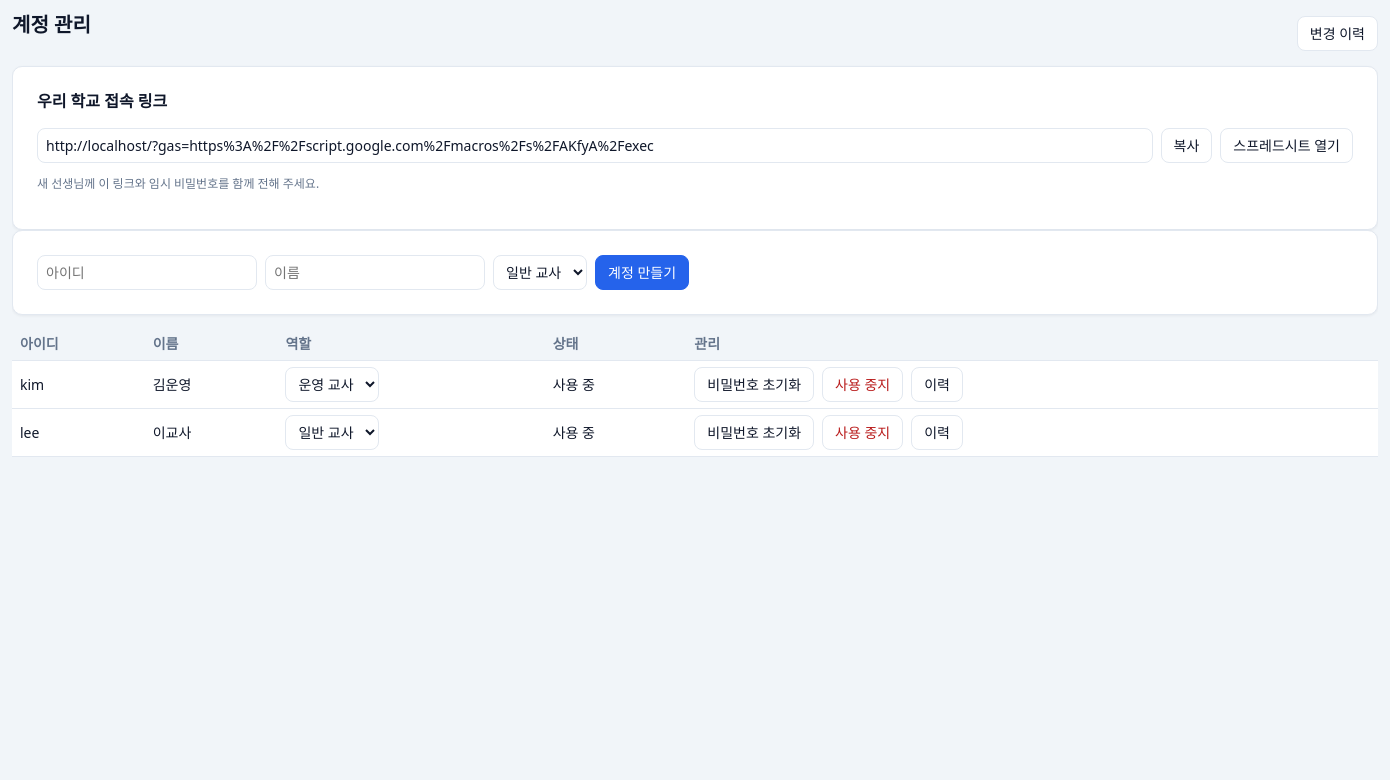
Test: UsersPage › resetting a password shows the new temporary password
Expected: the cell "lee" is shown, [12,408,145,456]
Click the button "비밀번호 초기화" in the row of "lee".
click(754, 432)  # box [694,415,814,450]
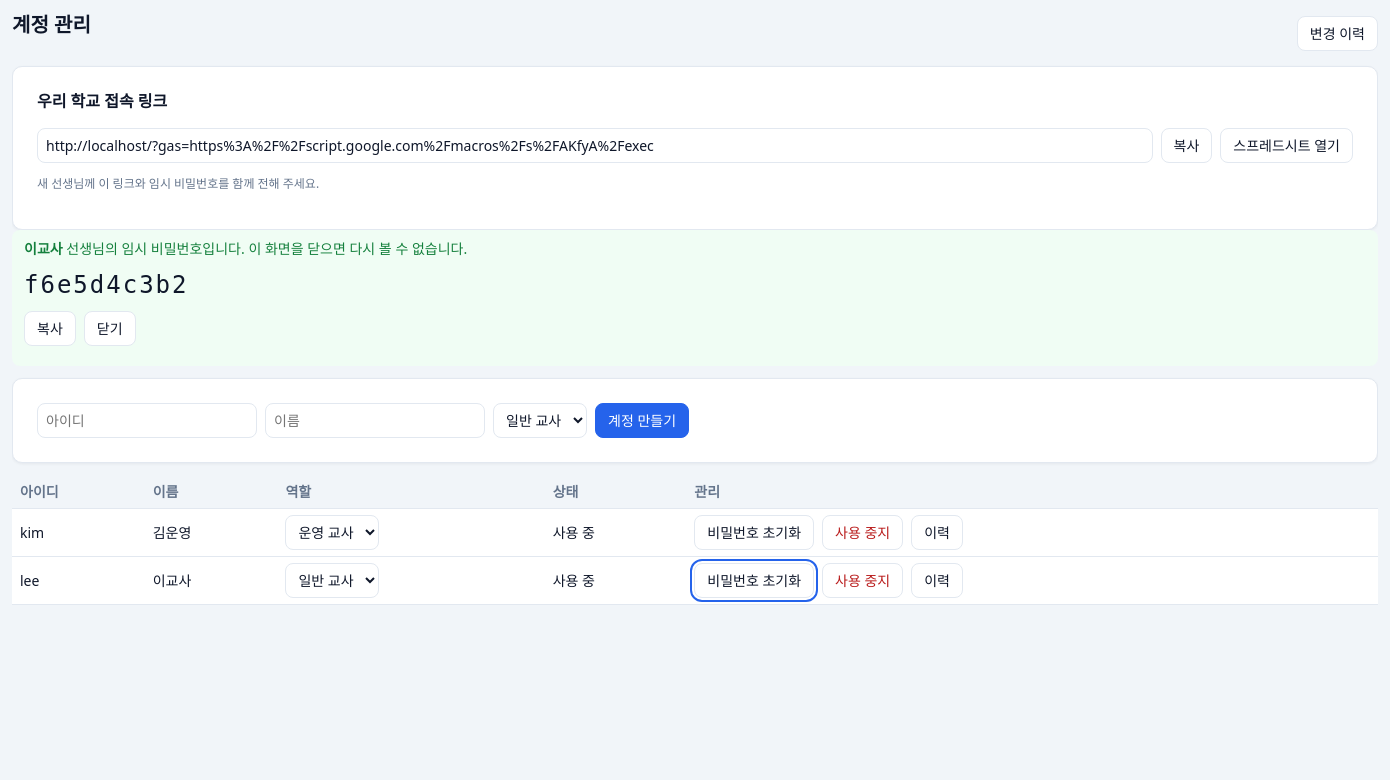
Now the message shows "f6e5d4c3b2", box [24,271,188,299]
